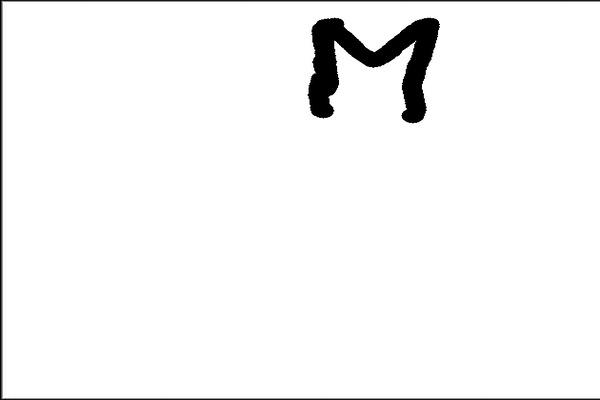M: (303, 16, 442, 128)
